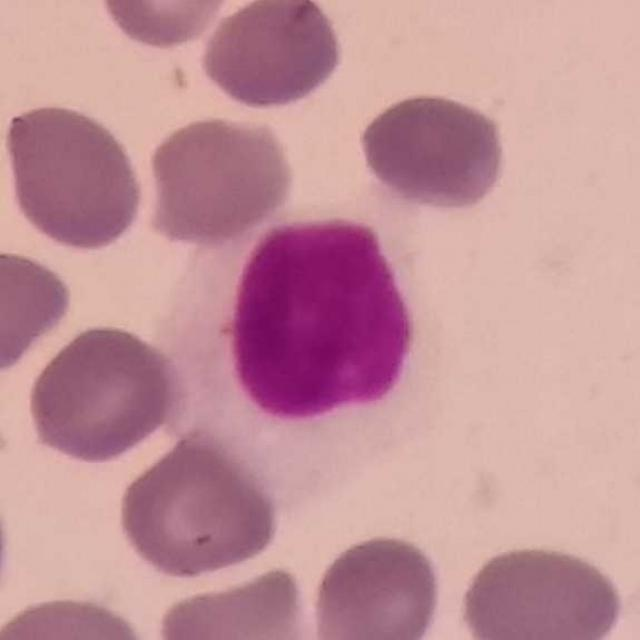Lymphocyte: (142, 170, 451, 510)
RBC: (112, 428, 284, 584), (21, 318, 189, 466), (1, 97, 149, 255), (140, 110, 298, 247), (355, 86, 511, 215), (454, 537, 626, 640), (197, 0, 347, 115), (304, 527, 446, 640), (152, 562, 320, 640), (0, 242, 77, 380), (1, 589, 158, 640), (94, 0, 237, 52), (577, 563, 640, 640)
